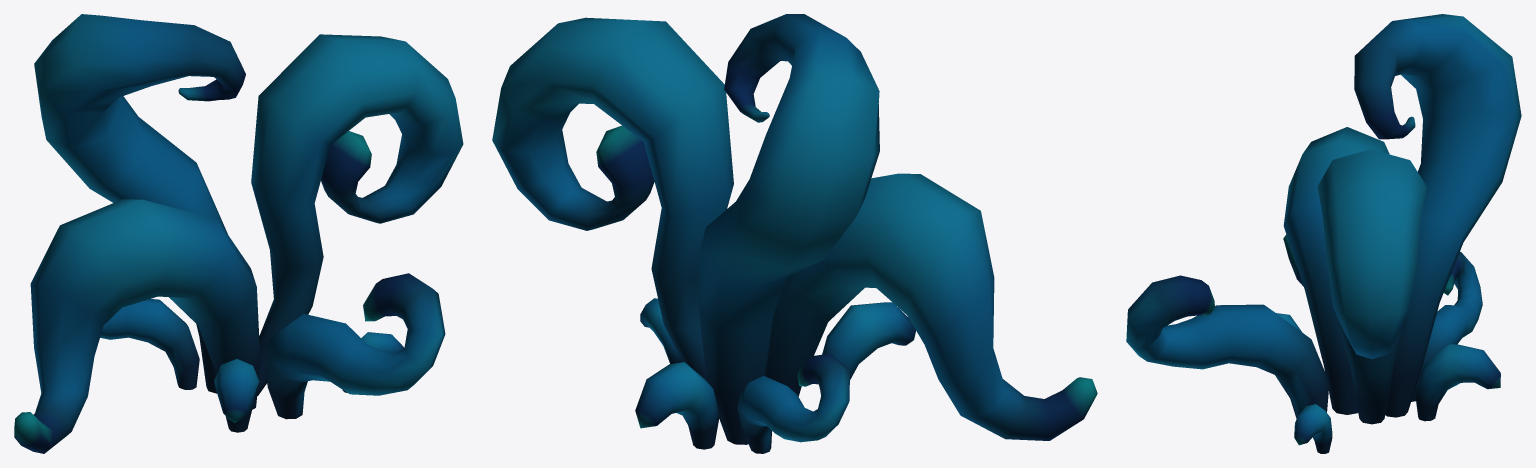
File: Alien_Ivy01.fbx
3 renders of one model, left to right at view 1: azimuth 30°, elevation 25°; view 2: azimuth 150°, elevation 25°; view 3: azimuth 270°, elevation 25°, orthographic. The views are drawn at different scales.
Parts seen in each view (by area): view 1: Alien_Ivy01; view 2: Alien_Ivy01; view 3: Alien_Ivy01.
Boxes of the visible parts, left/top/right/bottom form: Alien_Ivy01: left=14, top=14, right=463, bottom=453; Alien_Ivy01: left=492, top=14, right=1097, bottom=453; Alien_Ivy01: left=1126, top=14, right=1521, bottom=453.
Bounding box in the file's own units: 5117 × 3879 × 3882.
